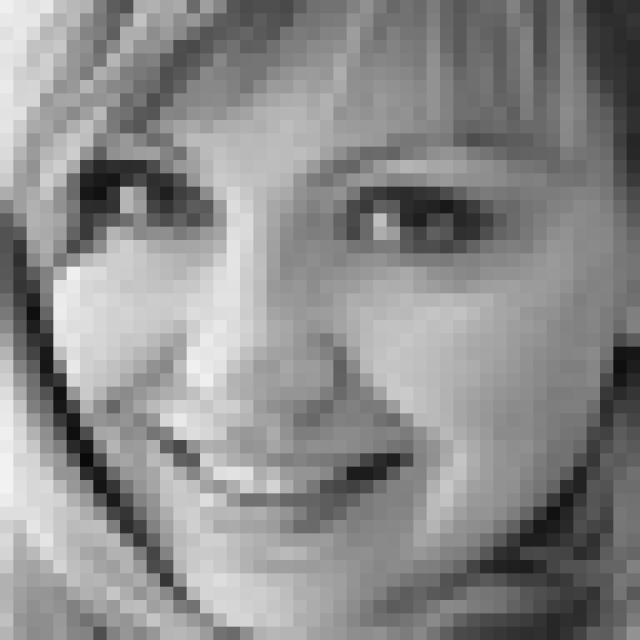happy: (84, 121, 570, 553)
